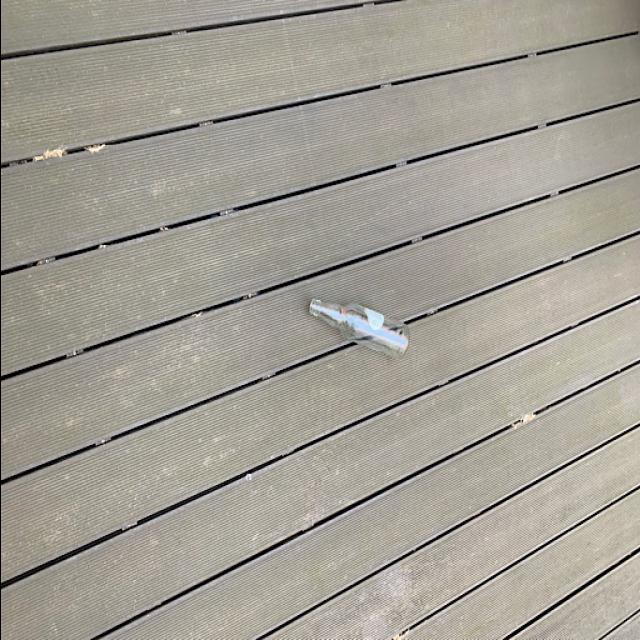litter: (304, 289, 408, 361)
